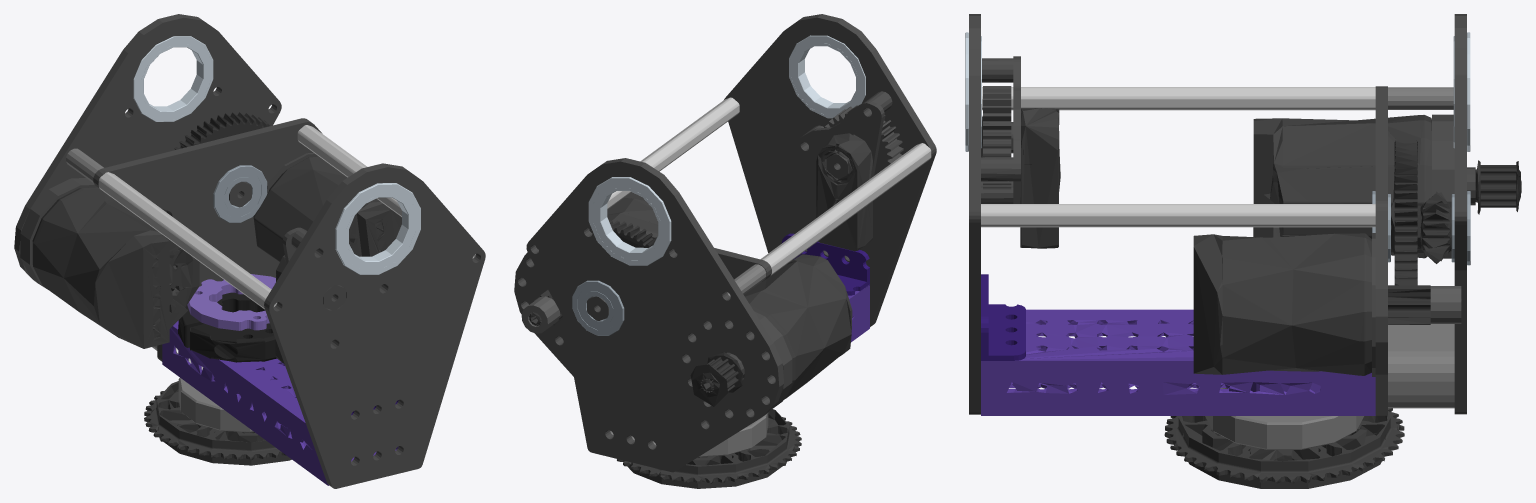
The picture shows the model from 3 angles, left to right: view 1: azimuth 30°, elevation 25°; view 2: azimuth 150°, elevation 25°; view 3: azimuth 270°, elevation 25°; orthographic projection. The views are drawn at different scales.
Visible parts, largest first — view 1: g2_c5, g2_c0, g2_c1, g2_c2, g2_c3, g2_c9, g2_c8, g2_c7, g2_c14, g2_c4, g2_c12, g2_c11; view 2: g2_c5, g2_c0, g2_c3, g2_c2, g2_c12, g2_c14, g2_c6, g2_c8, g2_c4, g2_c13, g2_c1, g2_c11; view 3: g2_c0, g2_c1, g2_c5, g2_c3, g2_c12, g2_c11, g2_c4, g2_c8, g2_c6, g2_c2, g2_c13, g2_c14.
Part boxes in pixels (left/top/right/bottom): g2_c5: left=14, top=14, right=485, bottom=488; g2_c0: left=32, top=156, right=401, bottom=465; g2_c1: left=162, top=320, right=398, bottom=485; g2_c2: left=133, top=36, right=420, bottom=274; g2_c3: left=99, top=125, right=475, bottom=309; g2_c9: left=178, top=292, right=276, bottom=362; g2_c8: left=20, top=153, right=345, bottom=310; g2_c7: left=187, top=274, right=275, bottom=330; g2_c14: left=213, top=165, right=267, bottom=222; g2_c4: left=178, top=378, right=253, bottom=432; g2_c12: left=162, top=112, right=271, bottom=212; g2_c11: left=66, top=148, right=157, bottom=350; g2_c5: left=514, top=14, right=936, bottom=472; g2_c0: left=529, top=133, right=872, bottom=488; g2_c3: left=607, top=97, right=931, bottom=275; g2_c2: left=588, top=35, right=865, bottom=265; g2_c12: left=534, top=220, right=742, bottom=406; g2_c14: left=572, top=280, right=624, bottom=335; g2_c6: left=781, top=233, right=869, bottom=295; g2_c8: left=523, top=153, right=848, bottom=413; g2_c4: left=699, top=412, right=768, bottom=456; g2_c13: left=521, top=296, right=560, bottom=333; g2_c1: left=848, top=284, right=869, bottom=342; g2_c11: left=610, top=264, right=766, bottom=445; g2_c0: left=1020, top=108, right=1521, bottom=488; g2_c1: left=981, top=309, right=1375, bottom=415; g2_c5: left=969, top=14, right=1466, bottom=415; g2_c3: left=981, top=87, right=1375, bottom=227; g2_c12: left=1388, top=140, right=1520, bottom=324; g2_c11: left=1388, top=87, right=1454, bottom=408; g2_c4: left=1205, top=388, right=1363, bottom=449; g2_c8: left=1011, top=114, right=1475, bottom=376; g2_c6: left=981, top=274, right=1025, bottom=360; g2_c2: left=965, top=32, right=1470, bottom=151; g2_c13: left=1430, top=286, right=1461, bottom=323; g2_c14: left=1372, top=191, right=1470, bottom=265.
Size of the model in its own units: 0.1772 by 0.1953 by 0.2327.
